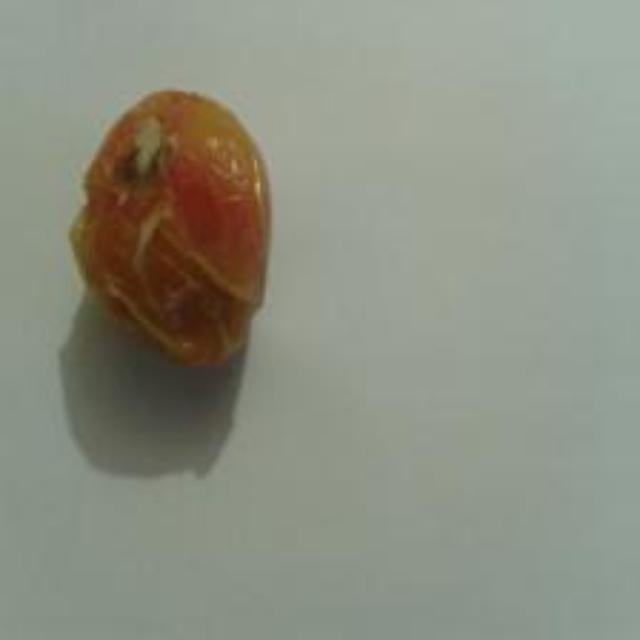defect: (66, 78, 289, 375)
